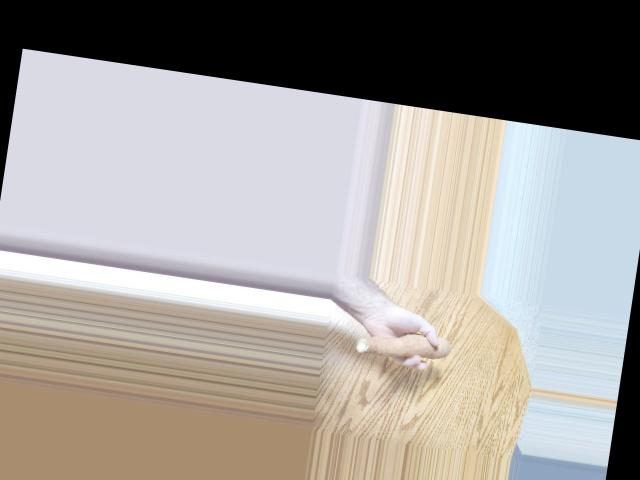sweet_potato: (362, 324, 446, 366)
